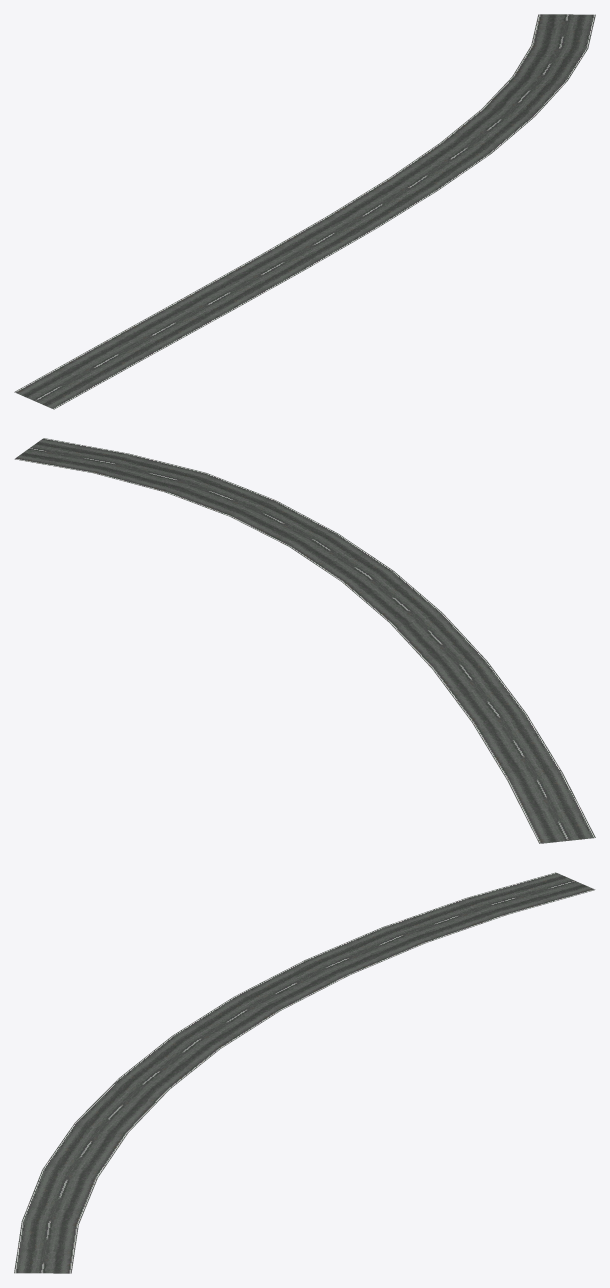
Rendered from lodcuntwroad75.obj.
3 renders of one model, top to bottom at view 1: azimuth 90°, elevation 25°; view 2: azimuth 150°, elevation 25°; view 3: azimuth 270°, elevation 25°, orthographic.
Visible parts, largest first — view 1: LODcuntwroad75; view 2: LODcuntwroad75; view 3: LODcuntwroad75.
Part boxes in pixels (bbox=[...]): LODcuntwroad75: bbox=[14, 14, 595, 409]; LODcuntwroad75: bbox=[14, 438, 595, 843]; LODcuntwroad75: bbox=[14, 872, 595, 1273].
Size of the model in its own units: 196 by 7.14 by 121.
1 material, 1 textured.
